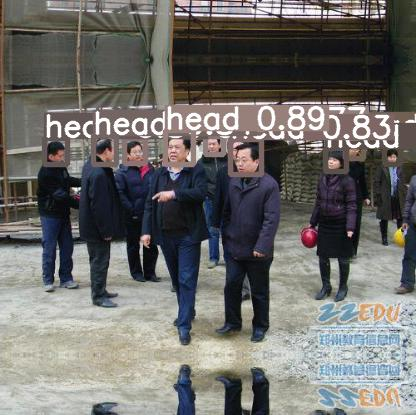head: (230, 139, 261, 174), (165, 130, 193, 164), (93, 135, 116, 164), (44, 138, 67, 164), (124, 138, 145, 163), (325, 148, 346, 171), (205, 131, 223, 154), (345, 137, 363, 158), (384, 146, 400, 164)
